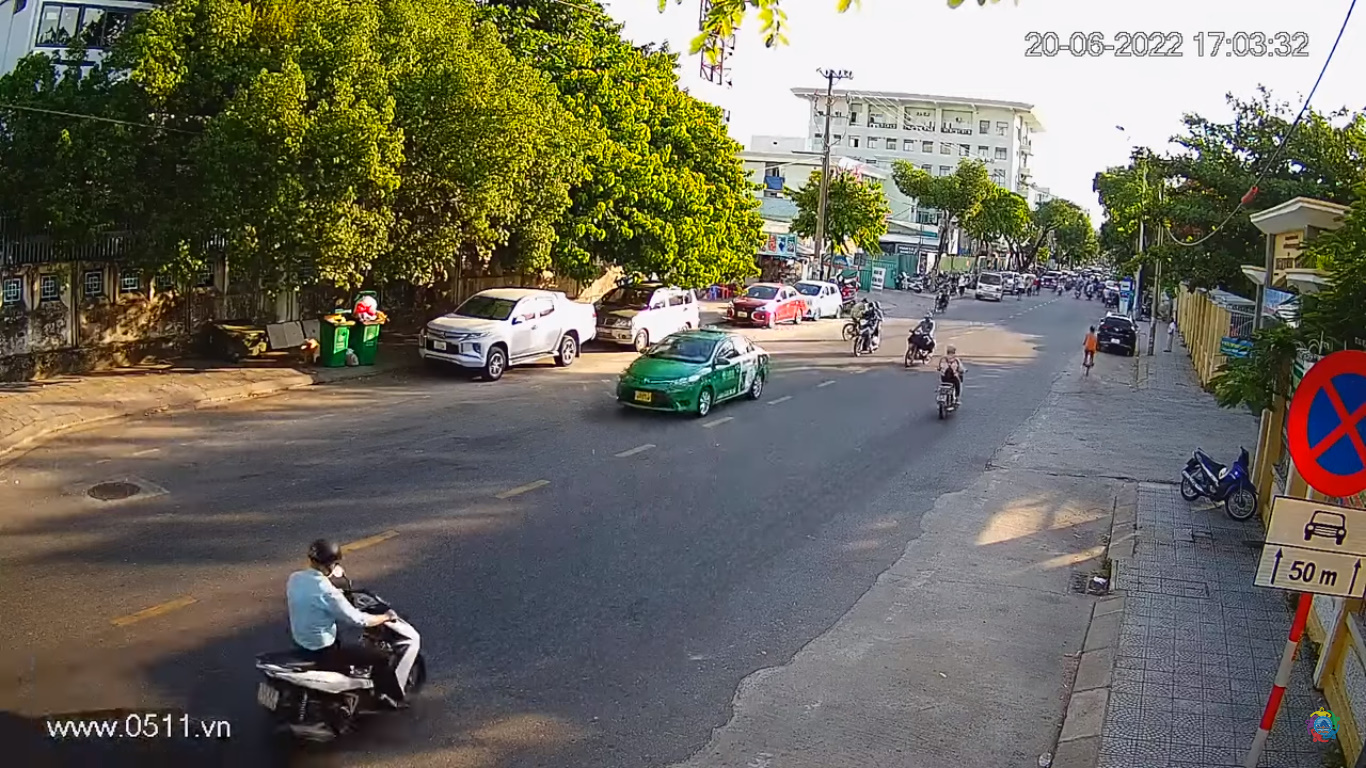car: (617, 337, 772, 425)
